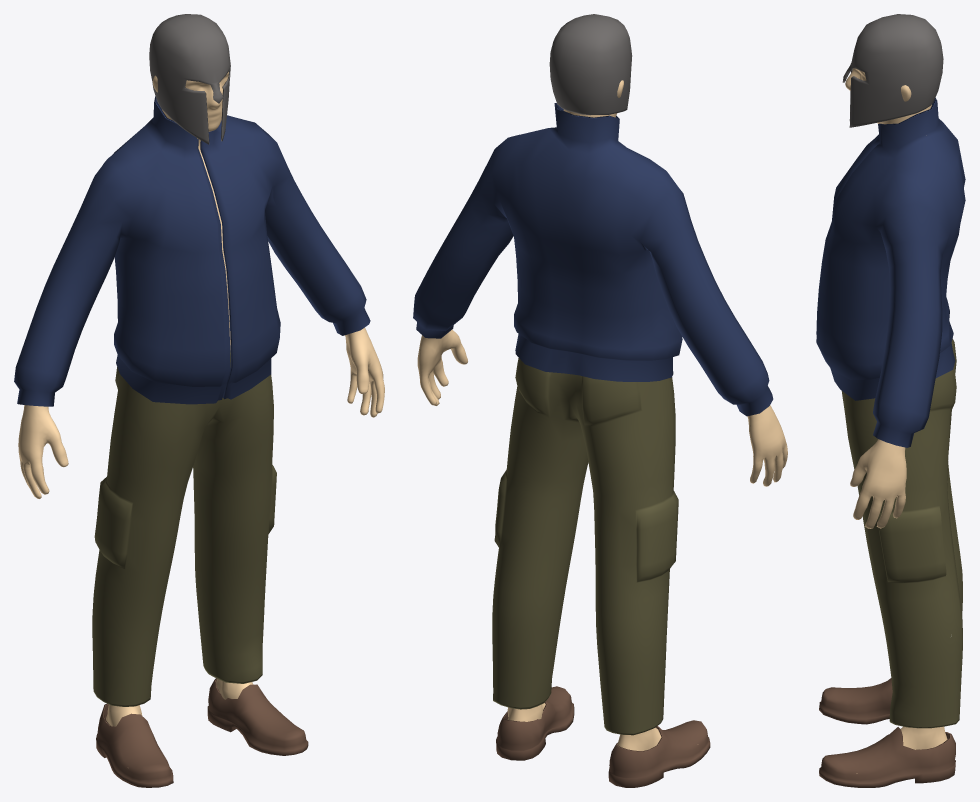
Rendered from NPC2.fbx.
3 renders of one model, left to right at view 1: azimuth 30°, elevation 25°; view 2: azimuth 150°, elevation 25°; view 3: azimuth 270°, elevation 25°, orthographic.
Visible parts, largest first — view 1: SportsJacket:SportsJacket, CargoPants1:CargoPants, FantasyHelmet:Helmet, HumanBody2:humanBody, MensBusinessShoes1:shoeL, MensBusinessShoes1:shoeR; view 2: SportsJacket:SportsJacket, CargoPants1:CargoPants, FantasyHelmet:Helmet, HumanBody2:humanBody, MensBusinessShoes1:shoeR, MensBusinessShoes1:shoeL; view 3: SportsJacket:SportsJacket, CargoPants1:CargoPants, FantasyHelmet:Helmet, MensBusinessShoes1:shoeL, HumanBody2:humanBody, MensBusinessShoes1:shoeR.
Part boxes in pixels (x1,y1,x2,y2): SportsJacket:SportsJacket: (14, 96, 370, 406); CargoPants1:CargoPants: (92, 350, 276, 706); FantasyHelmet:Helmet: (149, 14, 230, 144); HumanBody2:humanBody: (18, 72, 384, 726); MensBusinessShoes1:shoeL: (207, 678, 308, 755); MensBusinessShoes1:shoeR: (96, 703, 173, 787); SportsJacket:SportsJacket: (413, 103, 773, 416); CargoPants1:CargoPants: (492, 358, 678, 735); FantasyHelmet:Helmet: (549, 14, 632, 115); HumanBody2:humanBody: (417, 80, 787, 750); MensBusinessShoes1:shoeR: (608, 720, 710, 787); MensBusinessShoes1:shoeL: (496, 686, 574, 760); SportsJacket:SportsJacket: (816, 98, 965, 447); CargoPants1:CargoPants: (841, 339, 962, 728); FantasyHelmet:Helmet: (842, 14, 943, 127); MensBusinessShoes1:shoeL: (819, 727, 955, 787); HumanBody2:humanBody: (845, 68, 947, 773); MensBusinessShoes1:shoeR: (819, 678, 892, 724).
Bounding box in the file's own units: 65.47 × 127 × 23.66.
